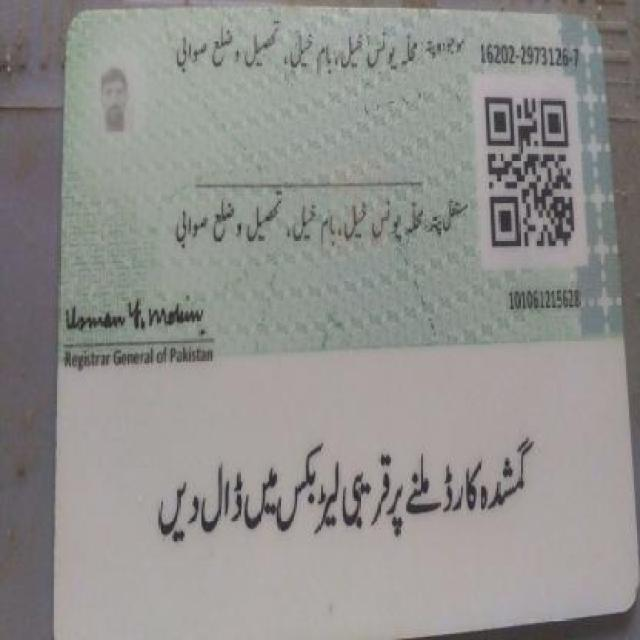Back: (51, 8, 631, 618)
